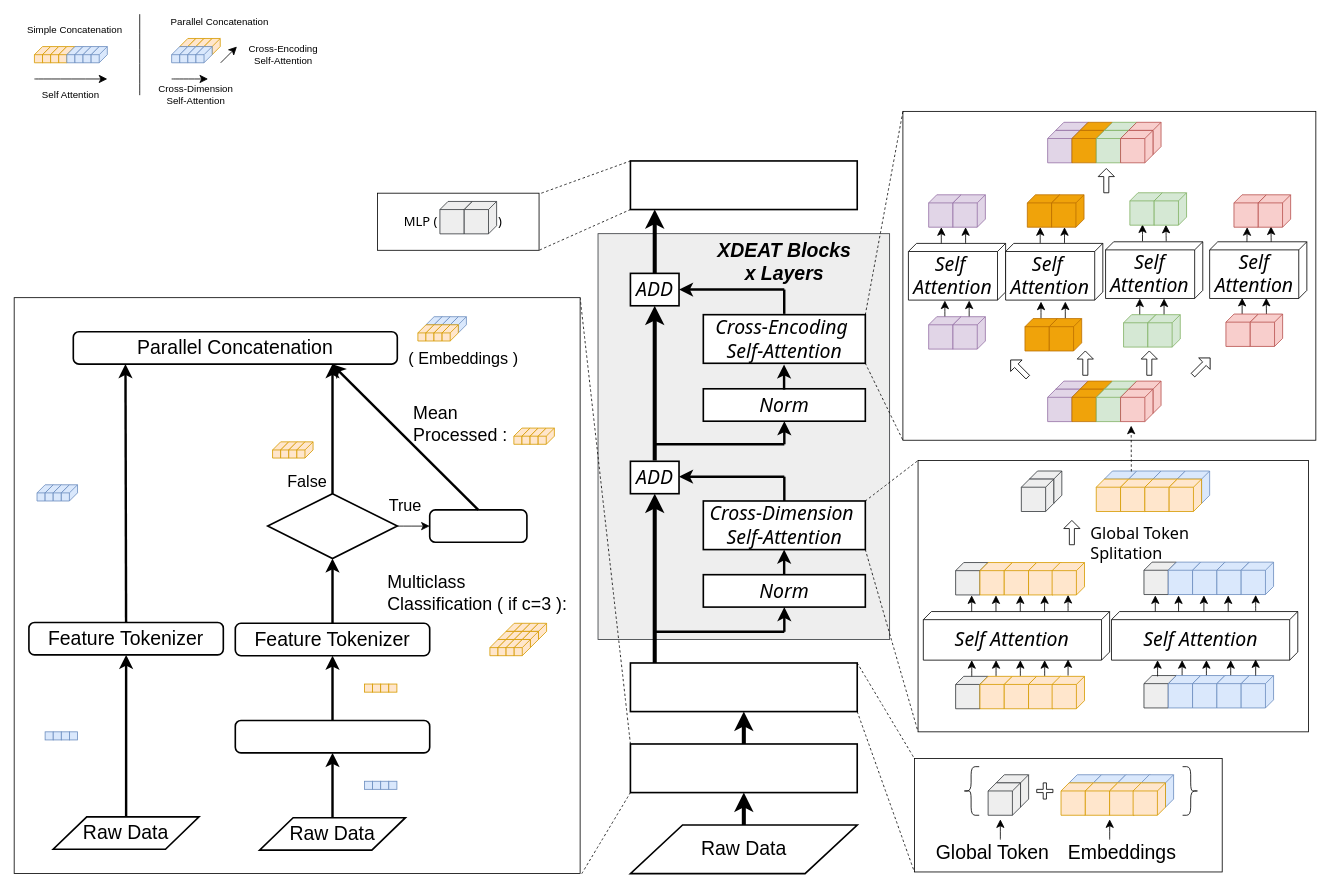
The diagram is 1330 pixels wide and 889 high, and some of its shapes have lost their labels. Here are the shapes that lost their labels. From the top down, the box of each, then its label:
(629, 160, 858, 210): Classifier
(266, 492, 398, 559): Multiclass
(428, 509, 527, 543): Mean
(629, 662, 858, 712): Global Token Extension
(234, 719, 430, 753): Target Encoding
(629, 743, 858, 793): Dual-Stream Encoding
